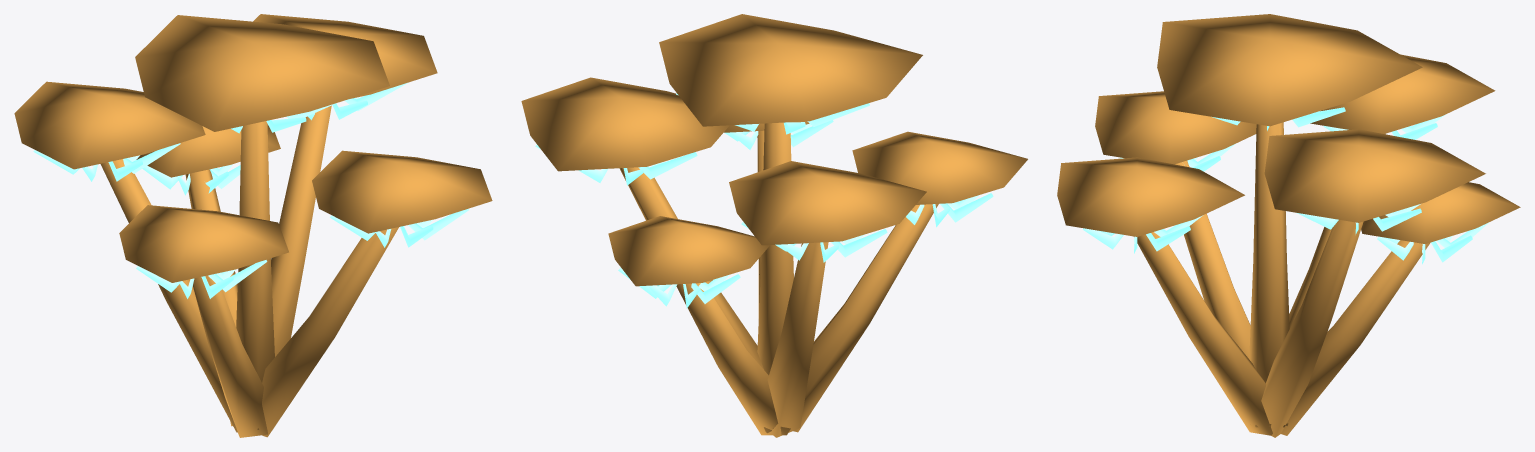
The model's file is cave_jack_o_lantern.glb.
3 views of the same model, side by side, from view 1: azimuth 30°, elevation 25°; view 2: azimuth 150°, elevation 25°; view 3: azimuth 270°, elevation 25° (orthographic).
Parts seen in each view (by area): view 1: Flora_Jack_O_Lantern; view 2: Flora_Jack_O_Lantern; view 3: Flora_Jack_O_Lantern.
Boxes of the visible parts, <box> form: Flora_Jack_O_Lantern: <box>14,14,492,437</box>; Flora_Jack_O_Lantern: <box>521,14,1027,437</box>; Flora_Jack_O_Lantern: <box>1057,14,1520,437</box>.
Bounding box in the file's own units: 0.411 × 0.3909 × 0.4185.
